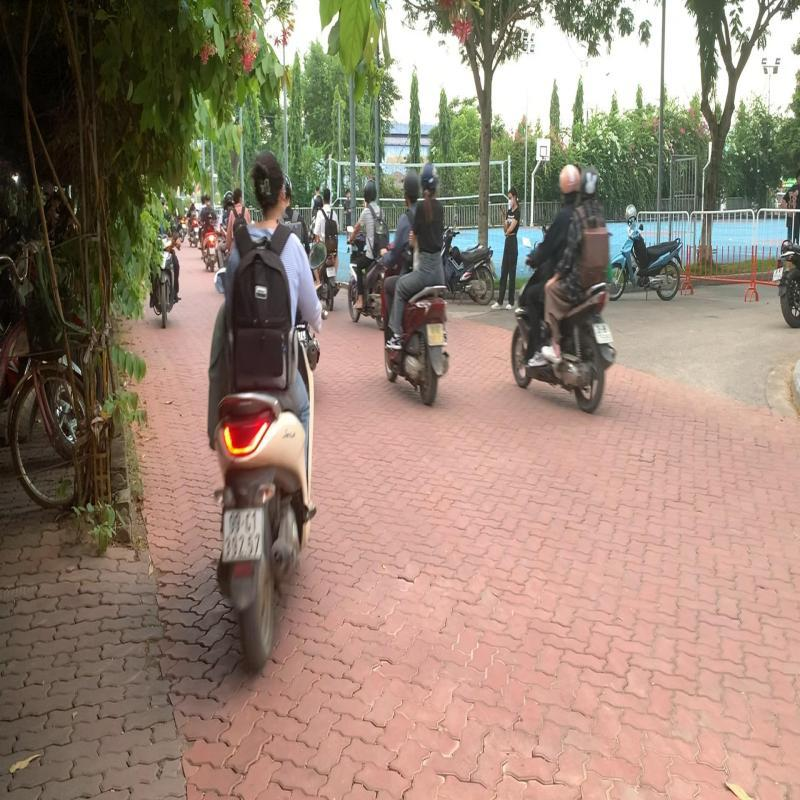nohelmet: (248, 143, 288, 221)
